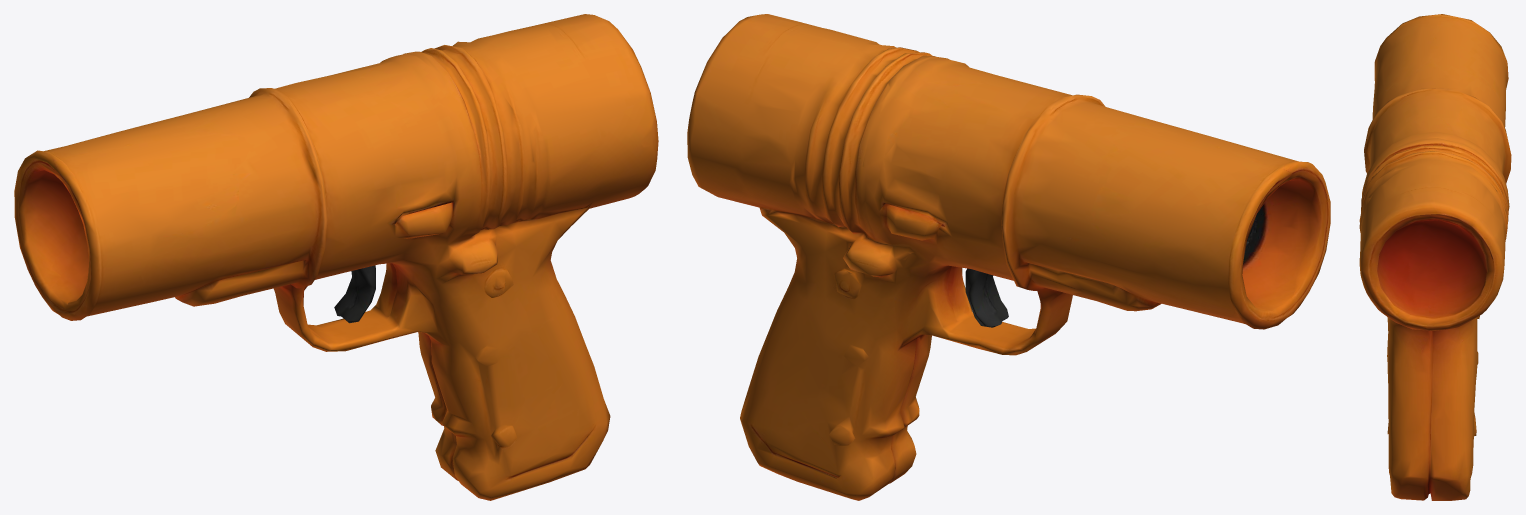
Rendered from flare_gun.f2b9d5480c.glb.
3 views of the same model, side by side, from view 1: azimuth 30°, elevation 25°; view 2: azimuth 150°, elevation 25°; view 3: azimuth 270°, elevation 25° (orthographic). The views are drawn at different scales.
Visible parts, largest first — view 1: base; view 2: base; view 3: base.
Boxes of the visible parts, x1,y1,x2,y2 form: base: (14,14,658,500); base: (687,14,1330,500); base: (1359,14,1511,500).
Bounding box in the file's own units: 0.2207 × 0.1624 × 0.0693.
1 material, 1 textured.
